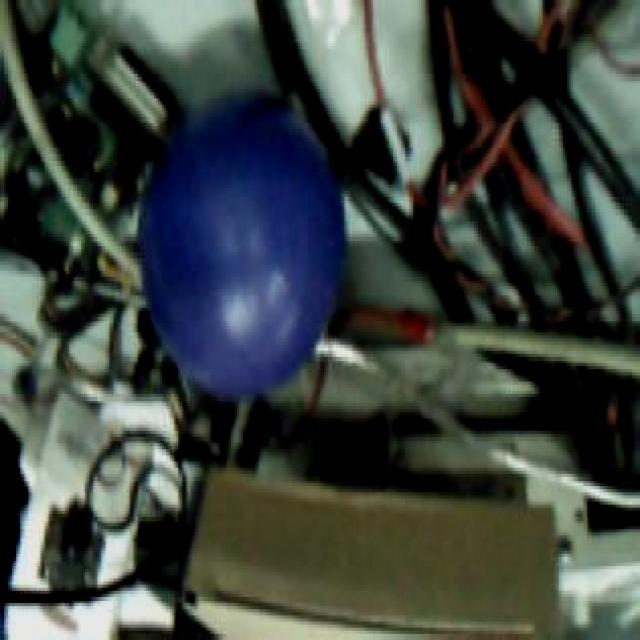BallPurple: (139, 97, 343, 394)
